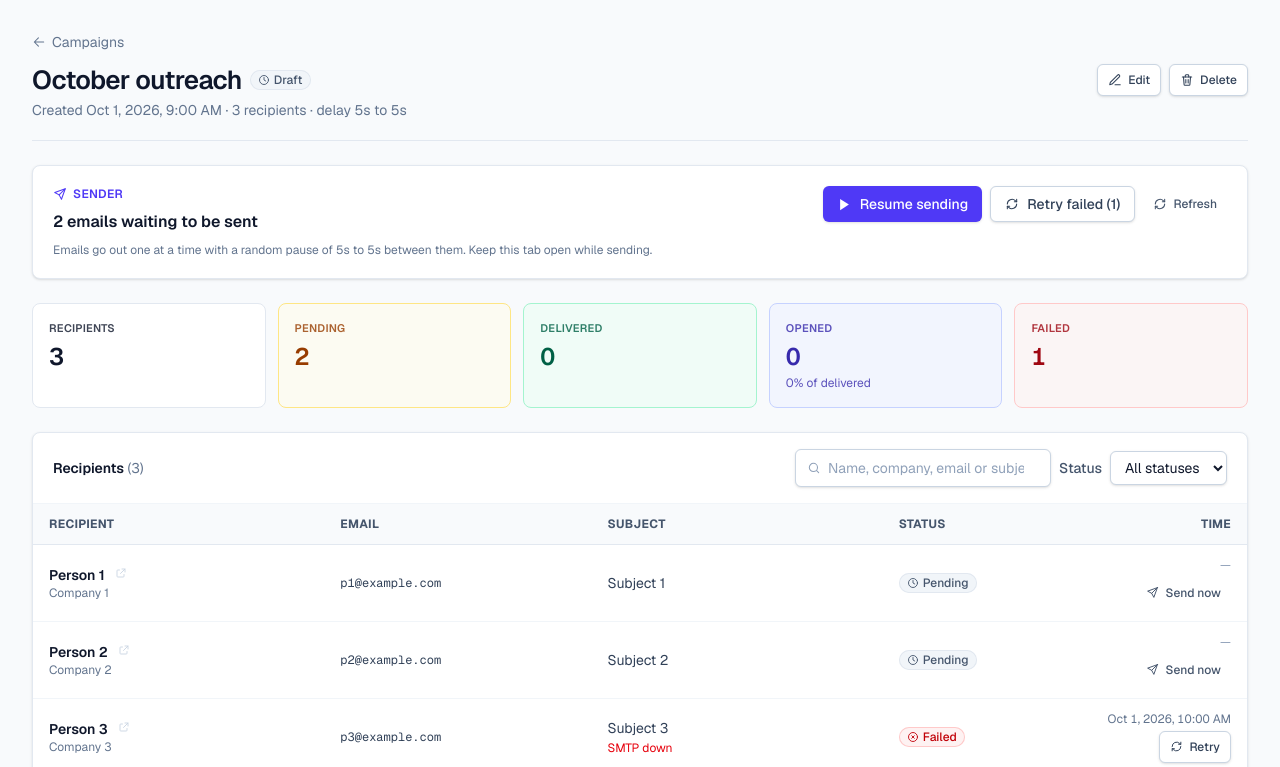
Test: CampaignDetailPage › does not loop when the server reports nothing to send
Click the button "Resume sending" at (902, 204), box top-left (823, 186), bottom-right (982, 222)
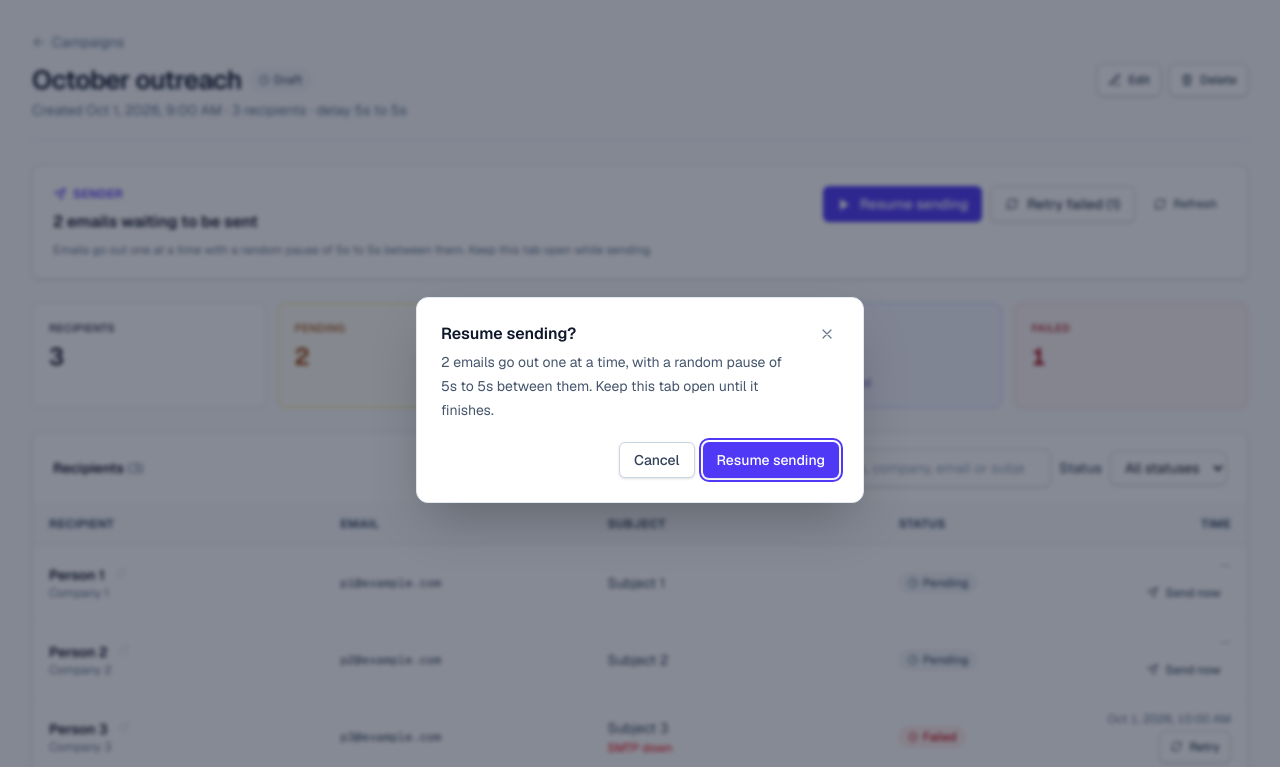
Click the button "Resume sending" at (771, 460), box top-left (702, 442), bottom-right (839, 478)
Wait 60000 ms
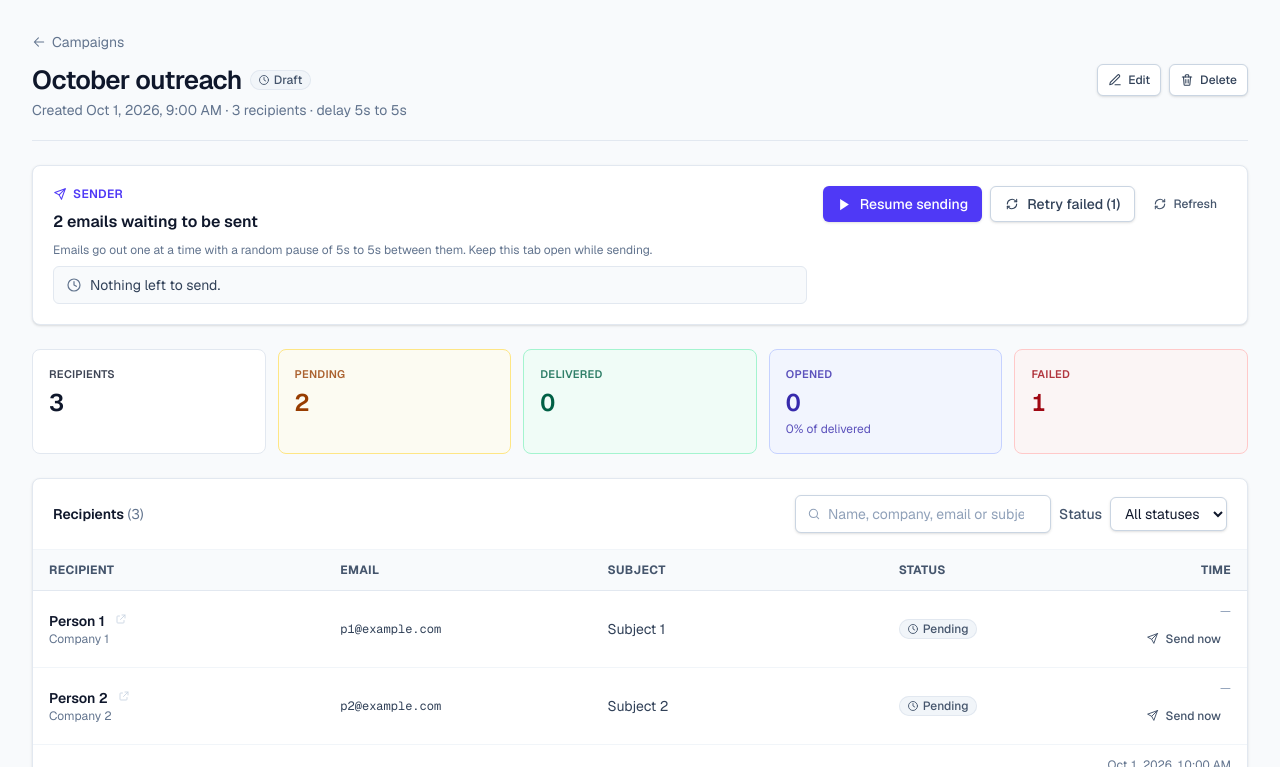
Expected: the text "Nothing left to send." is shown, top-left (90, 275), bottom-right (220, 295)
